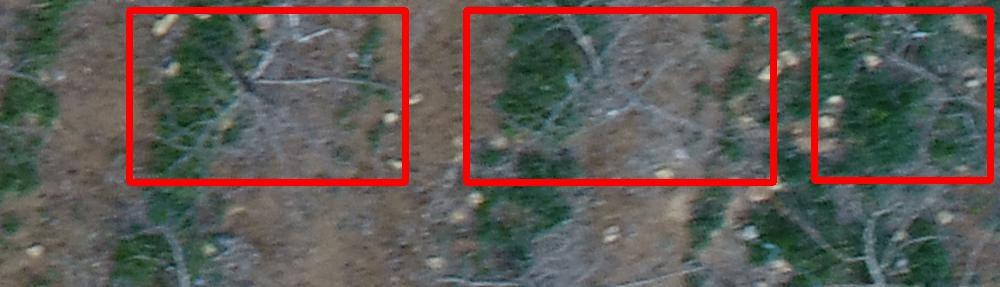apple: (466, 10, 773, 182), (129, 10, 405, 182), (814, 10, 990, 180)
